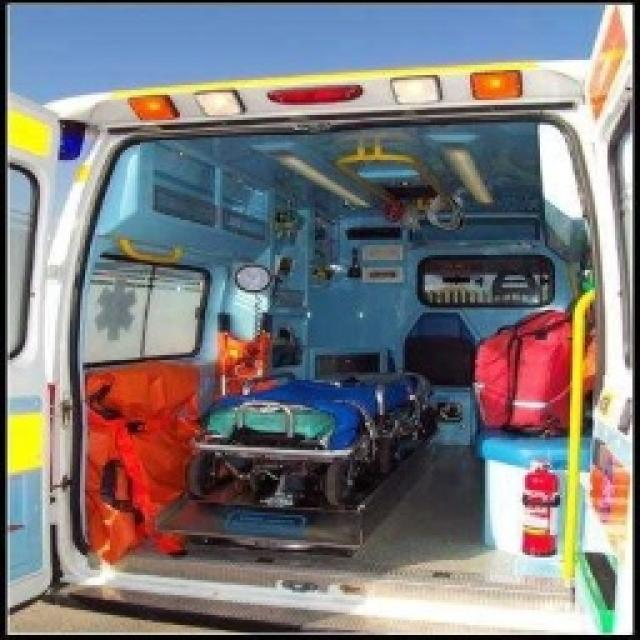ambulance: (0, 70, 452, 615)
